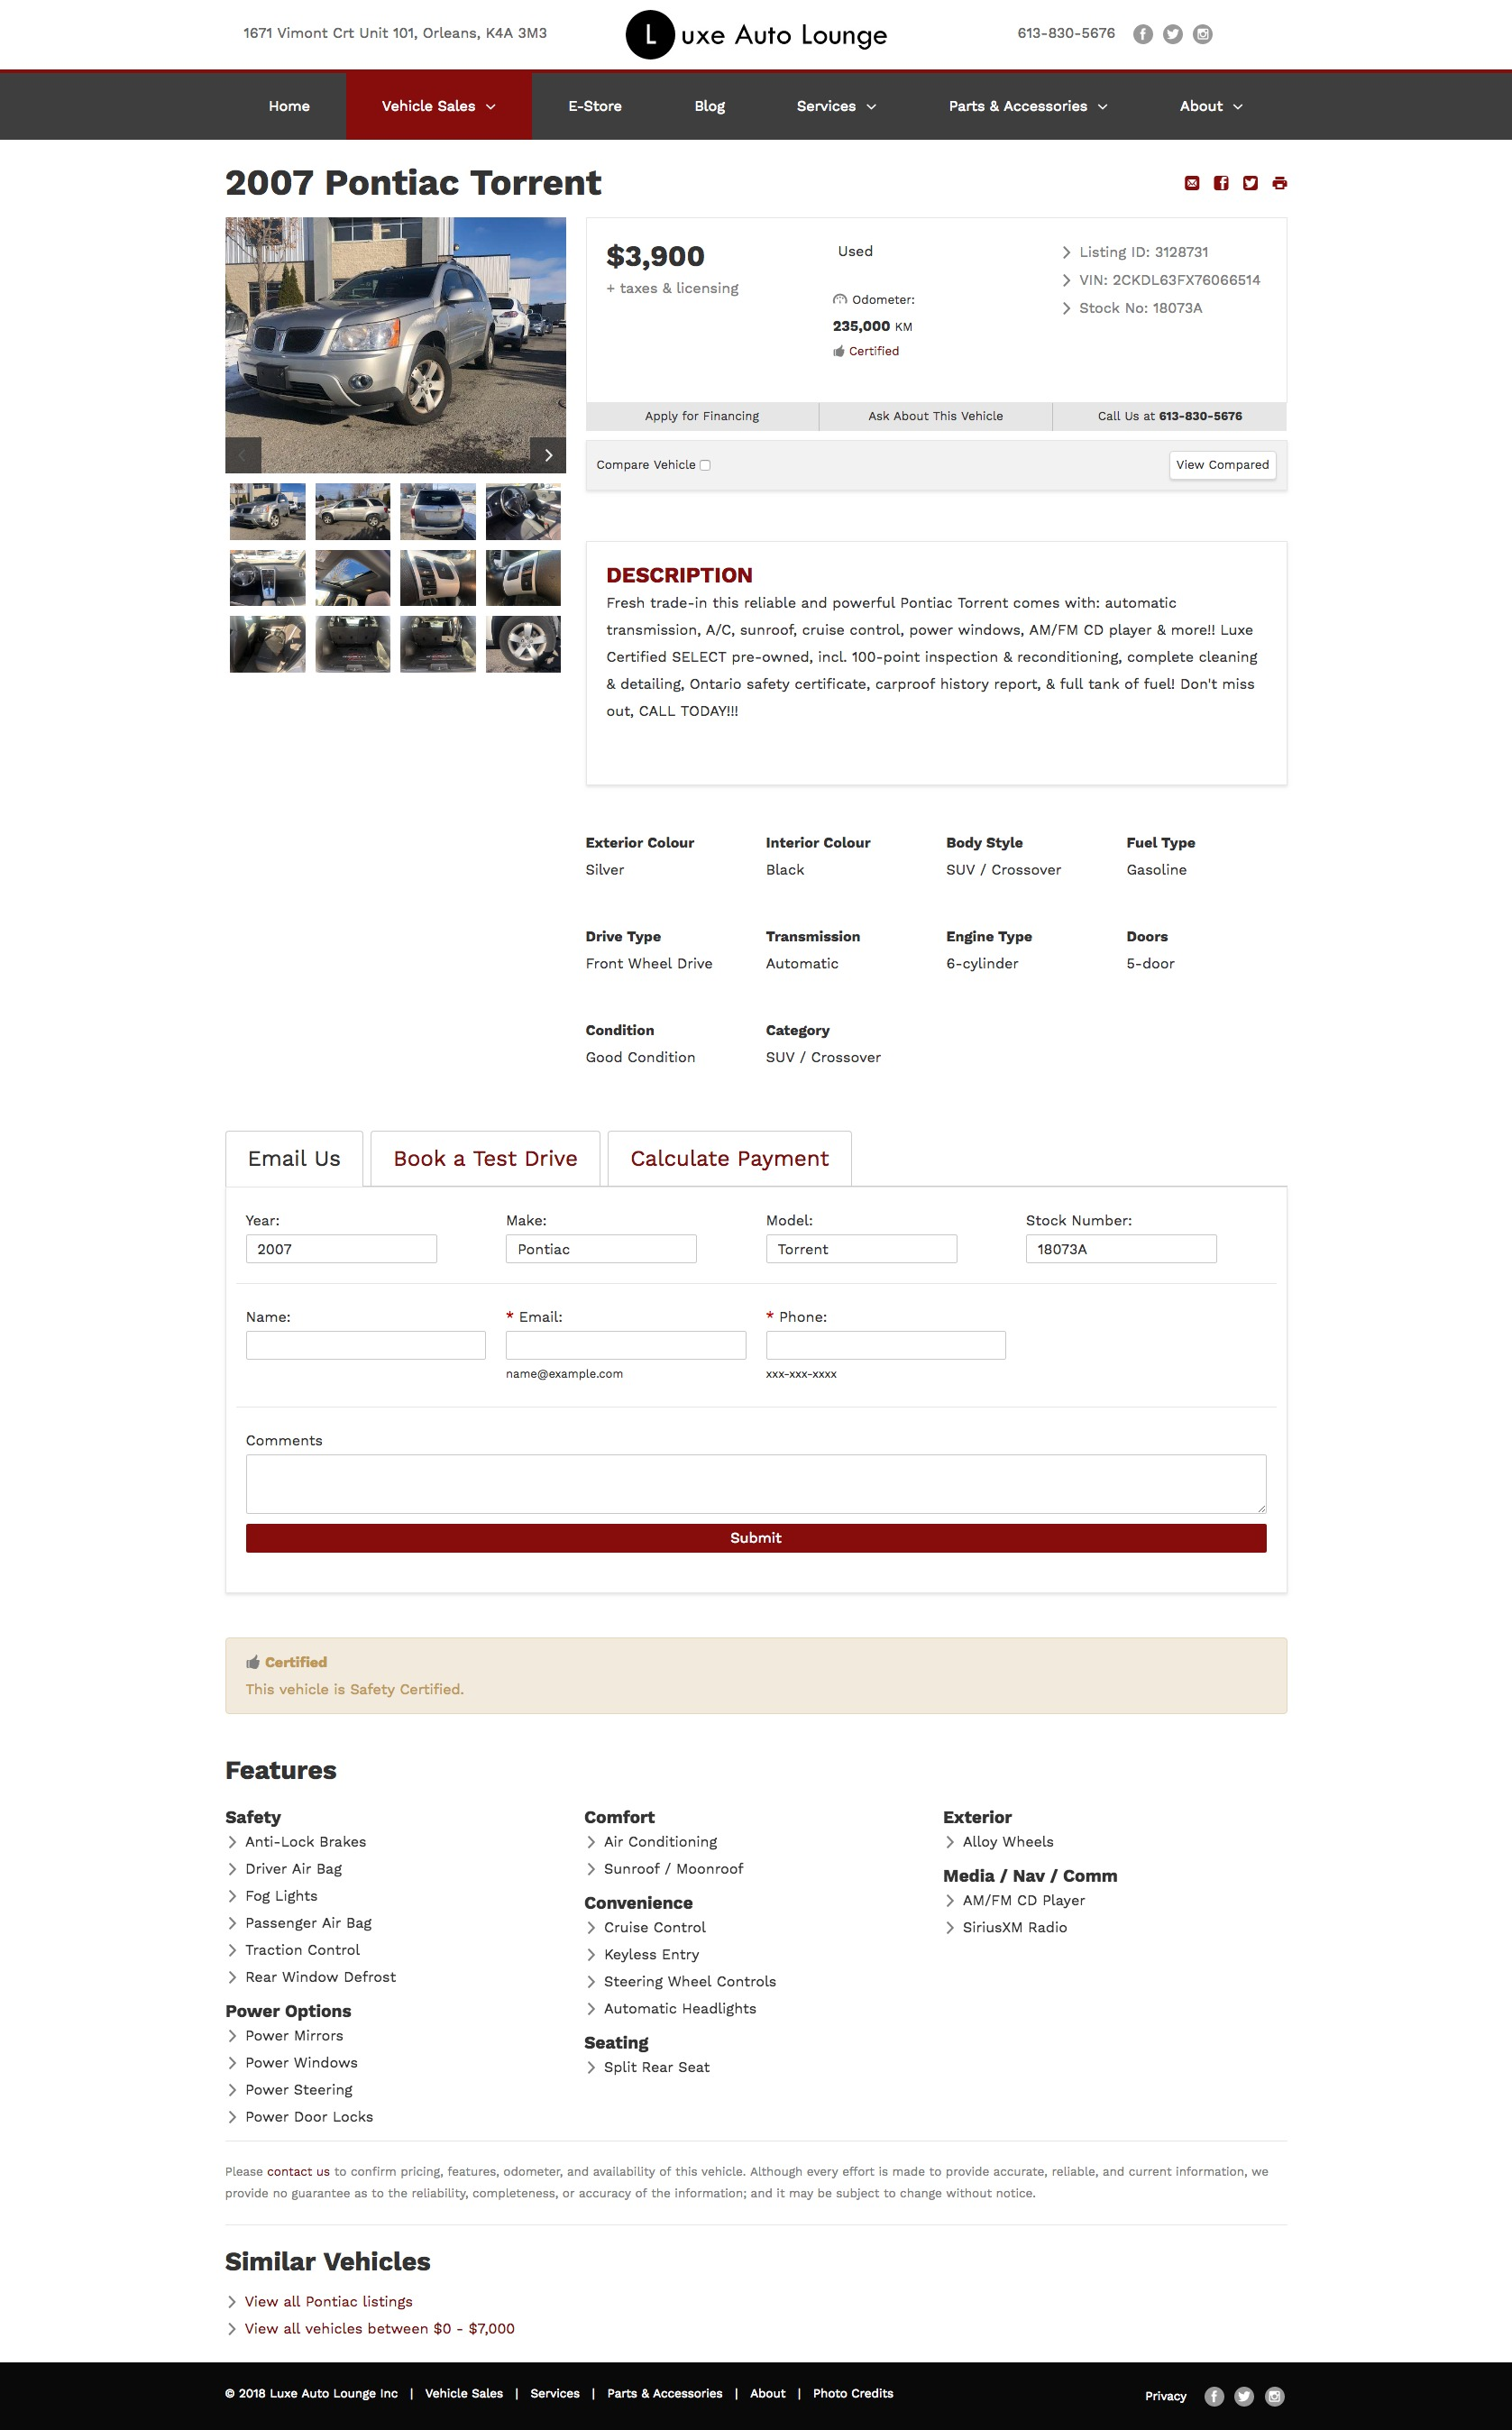car: (530, 437, 568, 476)
